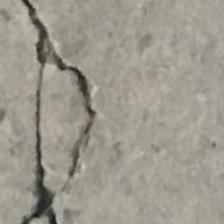Crack: (0, 0, 130, 224)
